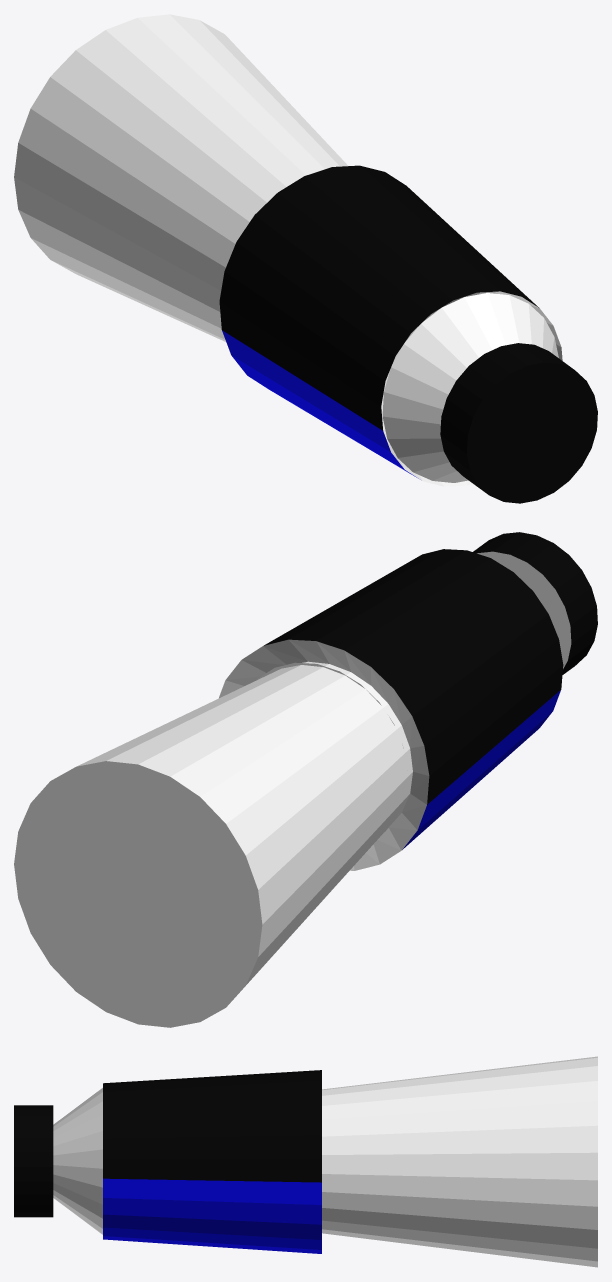
3 renders of one model, top to bottom at view 1: azimuth 30°, elevation 25°; view 2: azimuth 150°, elevation 25°; view 3: azimuth 270°, elevation 25°, orthographic. The views are drawn at different scales.
Parts seen in each view (by area): view 1: powerade bottle; view 2: powerade bottle; view 3: powerade bottle.
Boxes of the visible parts, x1,y1,x2,y2 form: powerade bottle: (14, 14, 597, 503); powerade bottle: (14, 532, 597, 1027); powerade bottle: (14, 1056, 597, 1267).
Bounding box in the file's own units: 3.61 × 3.61 × 9.96.
